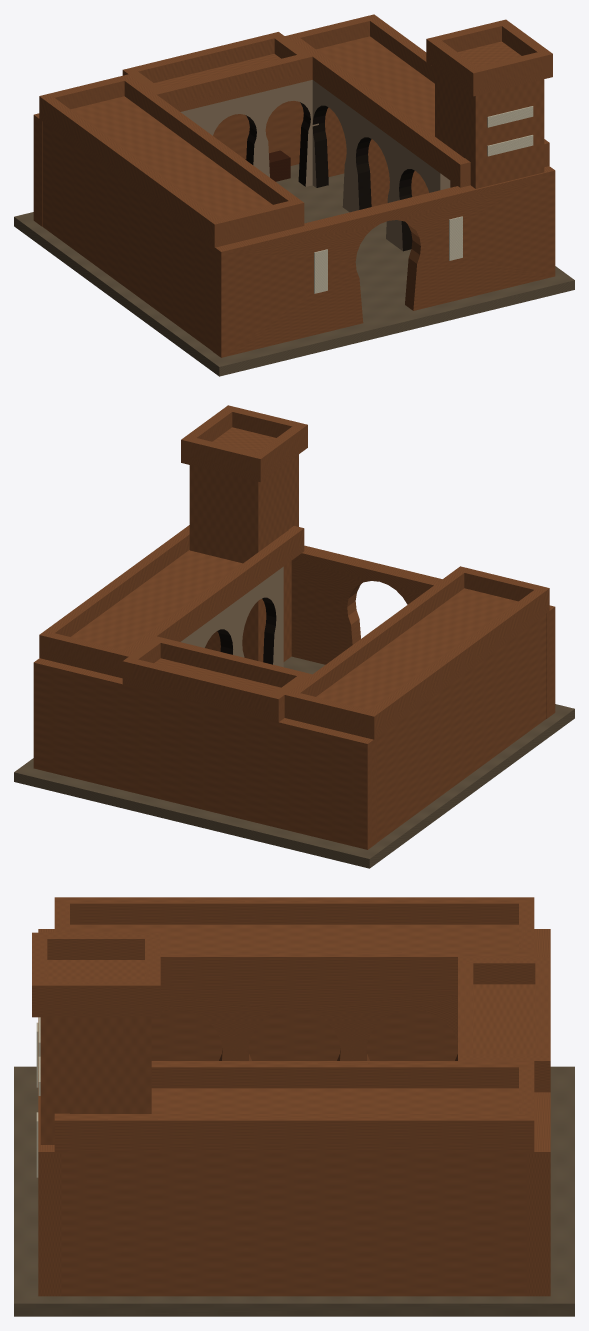
The model's file is Berber_Ribat_Age2.fbx.
3 views of the same model, one above another, from view 1: azimuth 30°, elevation 25°; view 2: azimuth 150°, elevation 25°; view 3: azimuth 270°, elevation 25° (orthographic). The views are drawn at different scales.
Visible parts, largest first — view 1: south_single_entry_wall, outer_cell_wall_-2.6, foundation, cells_flat_roof_-2.6, attached_signal_watchtower, cell_arcade_2.6, cells_flat_roof_2.6, council_hall_arcade, cells_flat_roof_-2.6_parapet, cells_flat_roof_-2.6_parapet.001, cells_flat_roof_2.6_parapet, rear_devotional_hall (+20 smaller); view 2: rear_devotional_hall, outer_cell_wall_-2.6, foundation, attached_signal_watchtower, cells_flat_roof_-2.6, south_single_entry_wall, cells_flat_roof_2.6, cells_flat_roof_-2.6_parapet, cells_flat_roof_-2.6_parapet.001, cells_flat_roof_2.6_parapet, cell_arcade_2.6, cells_flat_roof_2.6_parapet.001 (+13 smaller); view 3: outer_cell_wall_2.6, foundation, cells_flat_roof_2.6, cells_flat_roof_-2.6, cells_flat_roof_2.6_parapet.001, cells_flat_roof_-2.6_parapet, cell_arcade_-2.6, attached_signal_watchtower, outer_cell_wall_-2.6, cells_flat_roof_2.6_parapet, cells_flat_roof_-2.6_parapet.001, rear_devotional_hall (+13 smaller).
Part boxes in pixels (left/top/right/bottom): south_single_entry_wall: left=212, top=166, right=555, bottom=357; outer_cell_wall_-2.6: left=42, top=122, right=212, bottom=350; foundation: left=14, top=164, right=574, bottom=376; cells_flat_roof_-2.6: left=39, top=96, right=304, bottom=247; attached_signal_watchtower: left=435, top=68, right=544, bottom=188; cell_arcade_2.6: left=312, top=80, right=450, bottom=251; cells_flat_roof_2.6: left=312, top=36, right=549, bottom=187; council_hall_arcade: left=180, top=80, right=318, bottom=186; cells_flat_roof_-2.6_parapet: left=39, top=93, right=224, bottom=239; cells_flat_roof_-2.6_parapet.001: left=119, top=74, right=304, bottom=220; cells_flat_roof_2.6_parapet: left=285, top=34, right=469, bottom=179; rear_devotional_hall: left=33, top=101, right=303, bottom=226; rear_devotional_hall: left=33, top=658, right=376, bottom=849; outer_cell_wall_-2.6: left=376, top=614, right=546, bottom=842; foundation: left=14, top=656, right=574, bottom=868; attached_signal_watchtower: left=189, top=454, right=298, bottom=661; cells_flat_roof_-2.6: left=284, top=588, right=549, bottom=739; south_single_entry_wall: left=291, top=545, right=555, bottom=718; cells_flat_roof_2.6: left=39, top=544, right=304, bottom=678; cells_flat_roof_-2.6_parapet: left=364, top=586, right=549, bottom=731; cells_flat_roof_-2.6_parapet.001: left=284, top=566, right=469, bottom=712; cells_flat_roof_2.6_parapet: left=119, top=526, right=304, bottom=670; cell_arcade_2.6: left=181, top=566, right=283, bottom=667; cells_flat_roof_2.6_parapet.001: left=39, top=525, right=189, bottom=652; outer_cell_wall_2.6: left=61, top=1152, right=527, bottom=1296; foundation: left=14, top=1066, right=574, bottom=1316; cells_flat_roof_2.6: left=54, top=1088, right=534, bottom=1151; cells_flat_roof_-2.6: left=70, top=924, right=518, bottom=988; cells_flat_roof_2.6_parapet.001: left=54, top=1114, right=534, bottom=1141; cells_flat_roof_-2.6_parapet: left=54, top=897, right=534, bottom=924; cell_arcade_-2.6: left=160, top=988, right=457, bottom=1060; attached_signal_watchtower: left=40, top=1017, right=151, bottom=1144; outer_cell_wall_-2.6: left=151, top=1010, right=457, bottom=1060; cells_flat_roof_2.6_parapet: left=151, top=1061, right=534, bottom=1088; cells_flat_roof_-2.6_parapet.001: left=160, top=950, right=534, bottom=977; rear_devotional_hall: left=527, top=929, right=550, bottom=1296.
Size of the model in its own units: 580 by 366 by 580.
6 materials, 6 textured.
